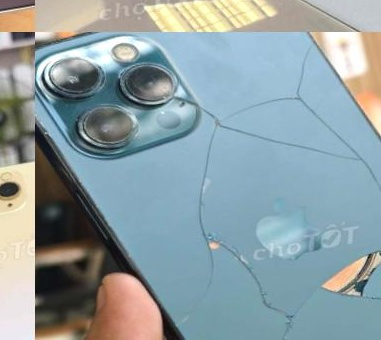physical_damage: (135, 32, 381, 340)
